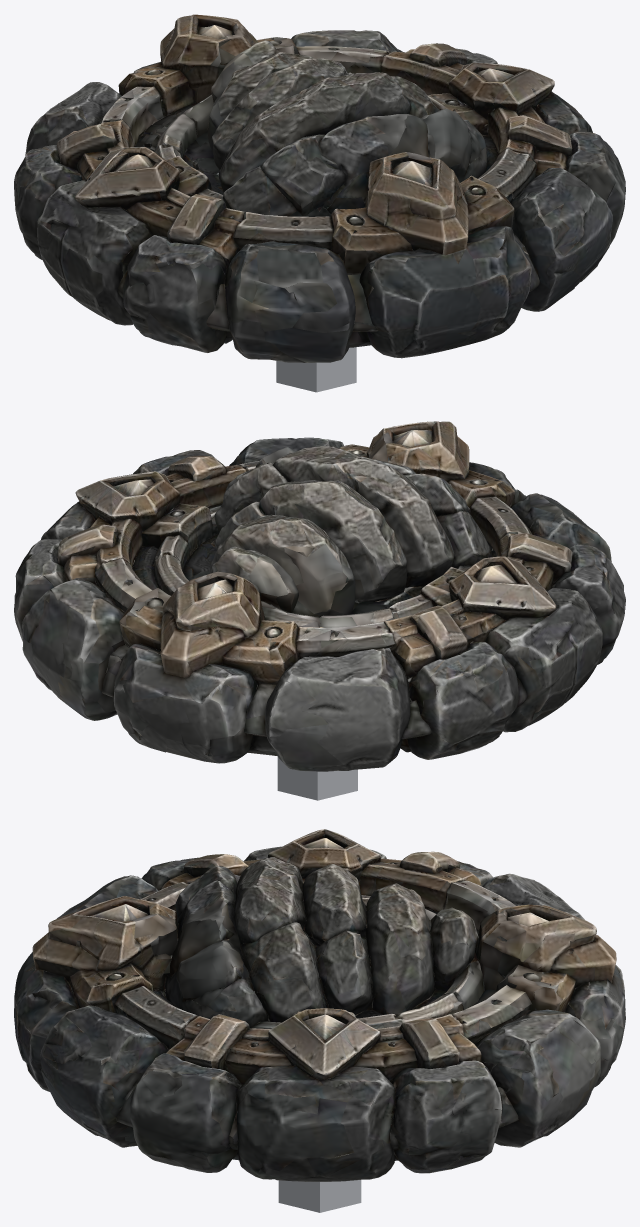
The model's file is millst.glb.
3 views of the same model, one above another, from view 1: azimuth 30°, elevation 25°; view 2: azimuth 150°, elevation 25°; view 3: azimuth 270°, elevation 25° (orthographic). The views are drawn at different scales.
Visible parts, largest first — view 1: mesh_node; view 2: mesh_node; view 3: mesh_node.
Boxes of the visible parts, left/top/right/bottom form: mesh_node: left=14, top=14, right=625, bottom=392; mesh_node: left=14, top=421, right=625, bottom=800; mesh_node: left=14, top=829, right=625, bottom=1212.
Size of the model in its own units: 19.21 by 8.56 by 19.23.
2 materials, 1 textured.
